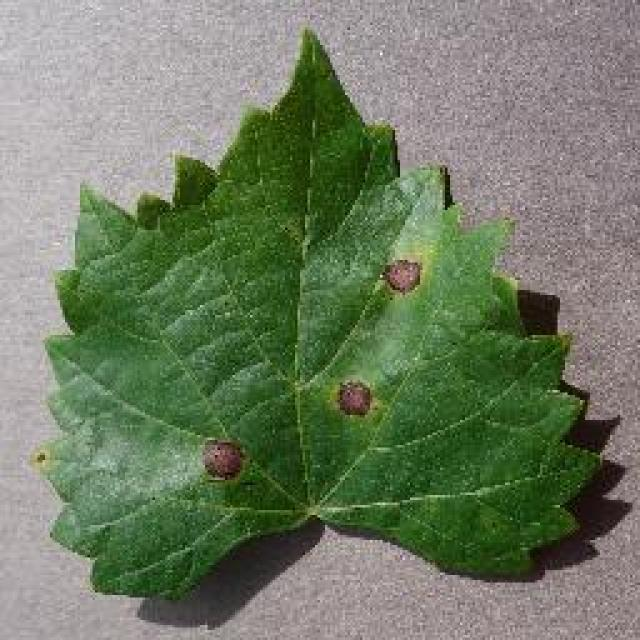Grape___Black_rot: (19, 20, 612, 608)
